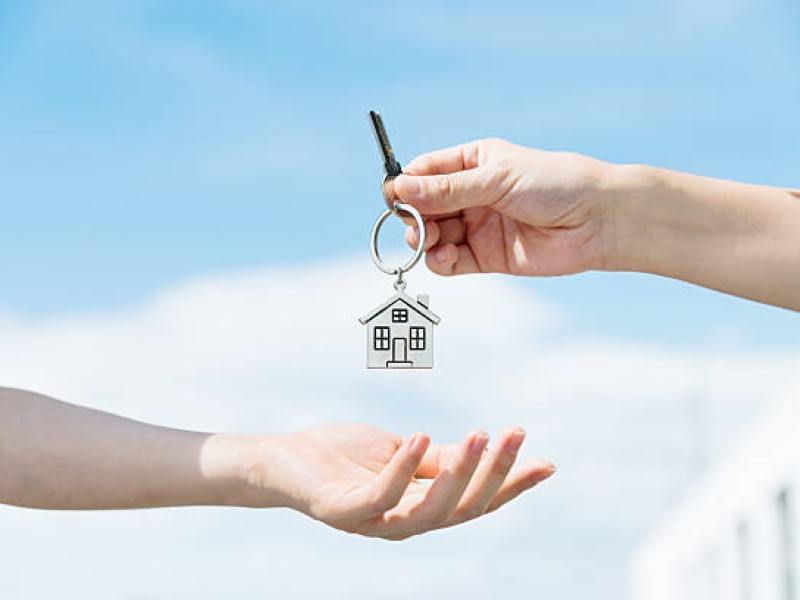key: (363, 109, 410, 213)
